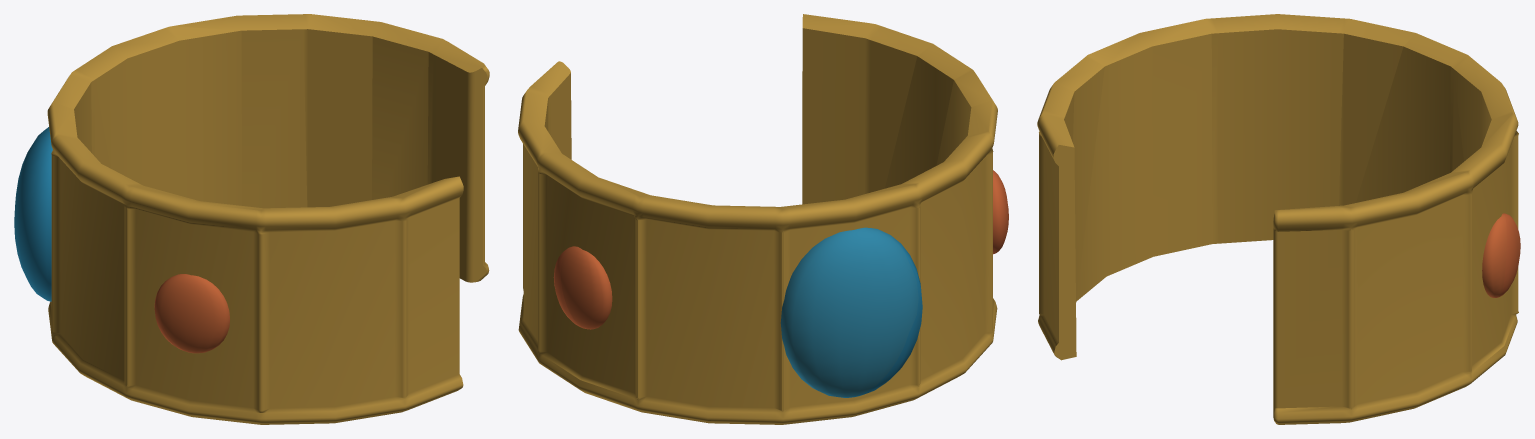
Rendered from bracelet.fbx.
3 views of the same model, side by side, from view 1: azimuth 30°, elevation 25°; view 2: azimuth 150°, elevation 25°; view 3: azimuth 270°, elevation 25° (orthographic).
Parts seen in each view (by area): view 1: bracelet_body, center_stone, side_stone1; view 2: bracelet_body, center_stone, side_stone, side_stone1; view 3: bracelet_body, side_stone.
Boxes of the visible parts, left/top/right/bottom form: bracelet_body: left=47, top=14, right=489, bottom=424; center_stone: left=14, top=127, right=52, bottom=301; side_stone1: left=154, top=274, right=229, bottom=353; bracelet_body: left=518, top=14, right=997, bottom=424; center_stone: left=780, top=227, right=922, bottom=397; side_stone: left=553, top=246, right=612, bottom=329; side_stone1: left=993, top=170, right=1008, bottom=254; bracelet_body: left=1037, top=14, right=1518, bottom=424; side_stone: left=1482, top=213, right=1520, bottom=297.
Size of the model in its own units: 1.11 by 0.5542 by 1.12.
